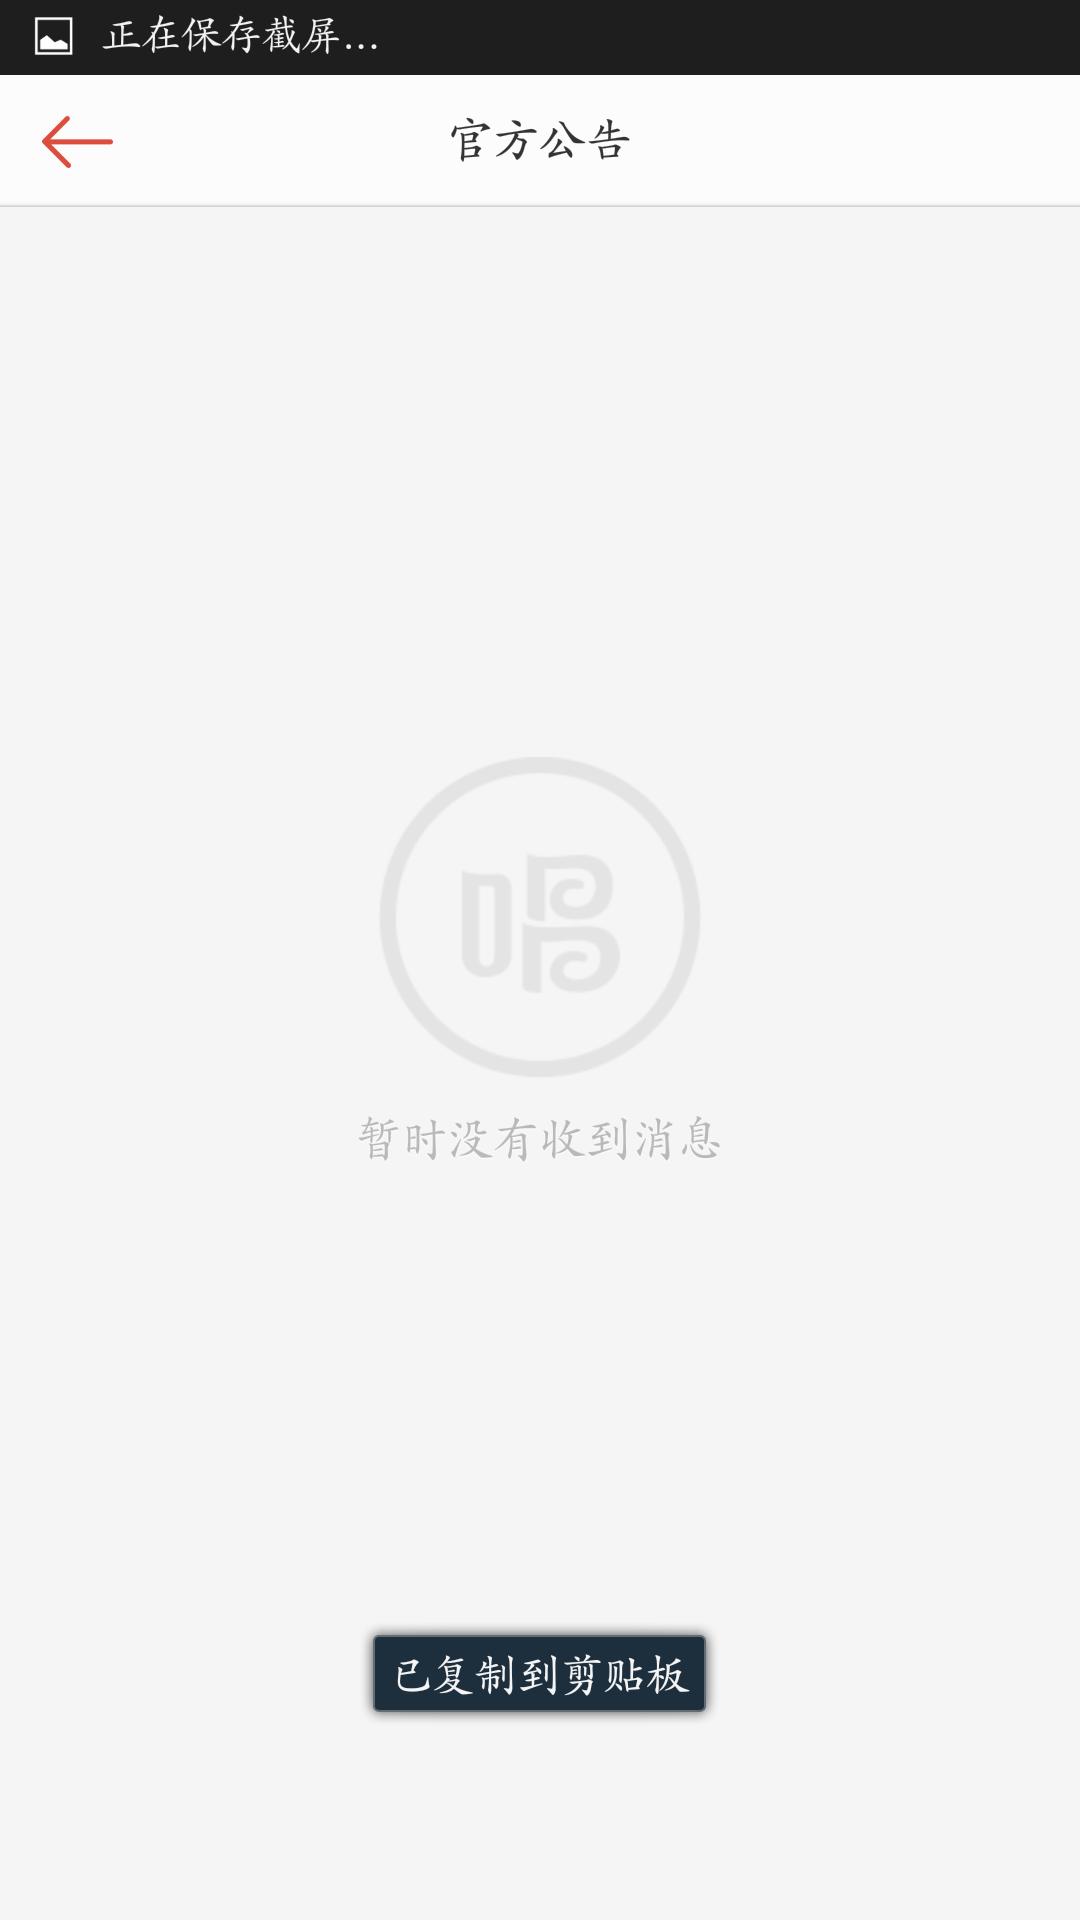alert: (340, 1606, 764, 1737)
textview: (353, 1101, 764, 1176)
